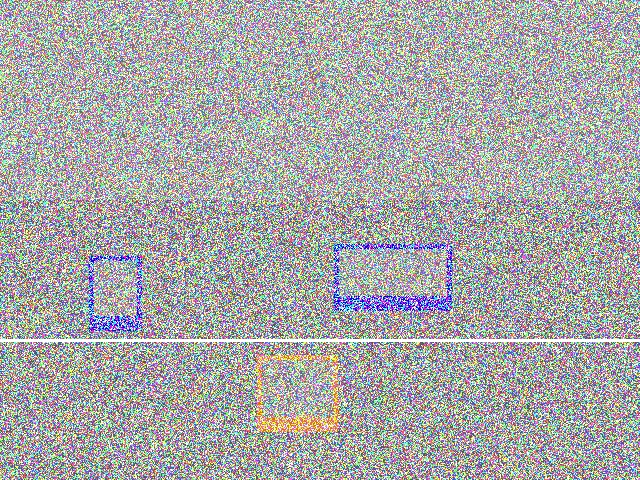truck: (85, 377, 176, 441)
